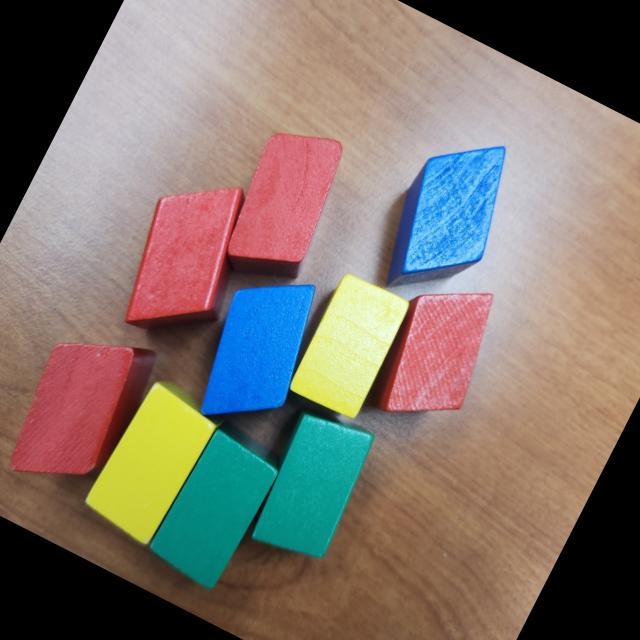blue: (363, 116, 533, 320), (178, 255, 339, 447)
green: (141, 414, 290, 596), (238, 398, 386, 574)
red: (102, 157, 275, 358), (0, 309, 167, 512), (358, 261, 514, 443), (210, 112, 360, 294)
yellow: (79, 372, 228, 552), (284, 270, 416, 424)
